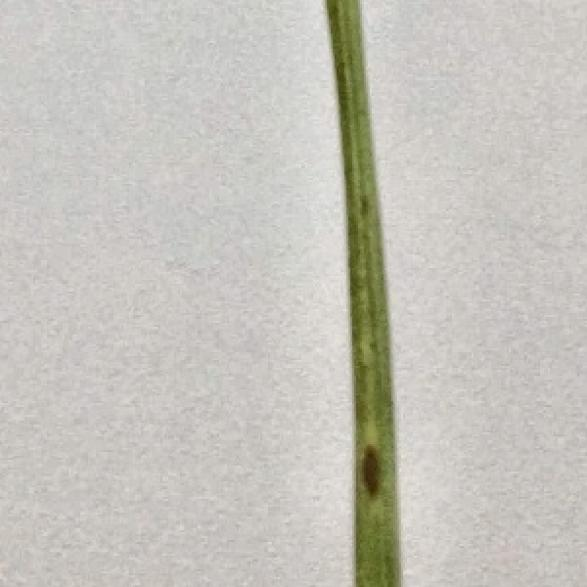Leaf_smut: (352, 425, 386, 501)
